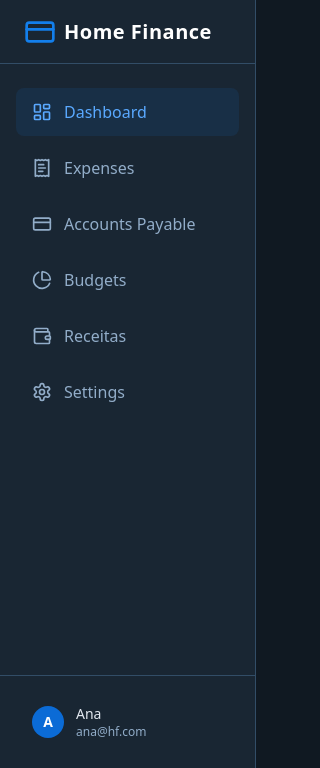
Test case: Sidebar — menu de troca de usuário › fecha o menu ao clicar novamente no usuário atual
Click the button "A Ana ana@hf.com": (128, 722) x1=16 y1=692 x2=239 y2=752
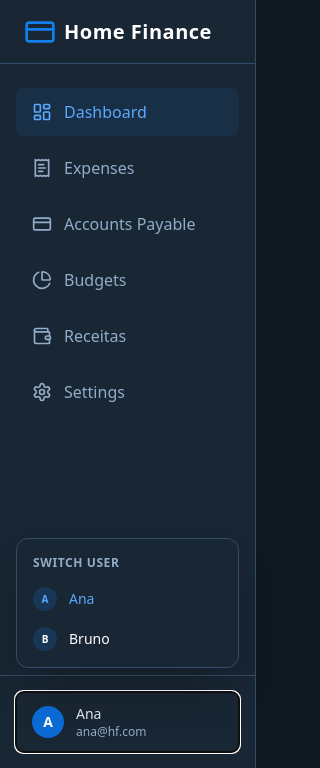
Now the text "Switch User" is shown, box x1=33 y1=554 x2=120 y2=571
Click the button "A Ana ana@hf.com": (128, 722) x1=16 y1=692 x2=239 y2=752
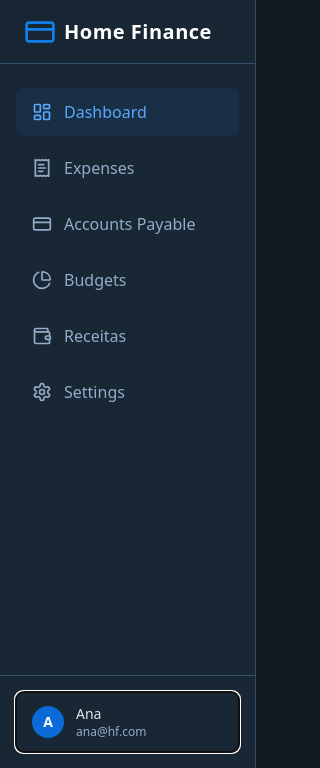
Now the text "Switch User" is gone
